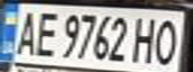2: (109, 12, 133, 63)
6: (90, 11, 115, 62)
7: (75, 10, 96, 61)
9: (57, 9, 81, 60)
A: (9, 7, 42, 57)
E: (30, 7, 60, 58)
H: (127, 13, 163, 64)
O: (148, 15, 184, 65)
